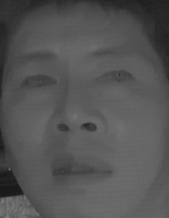eye: (97, 64, 136, 90), (21, 69, 59, 95)
mouth: (43, 148, 116, 193)
